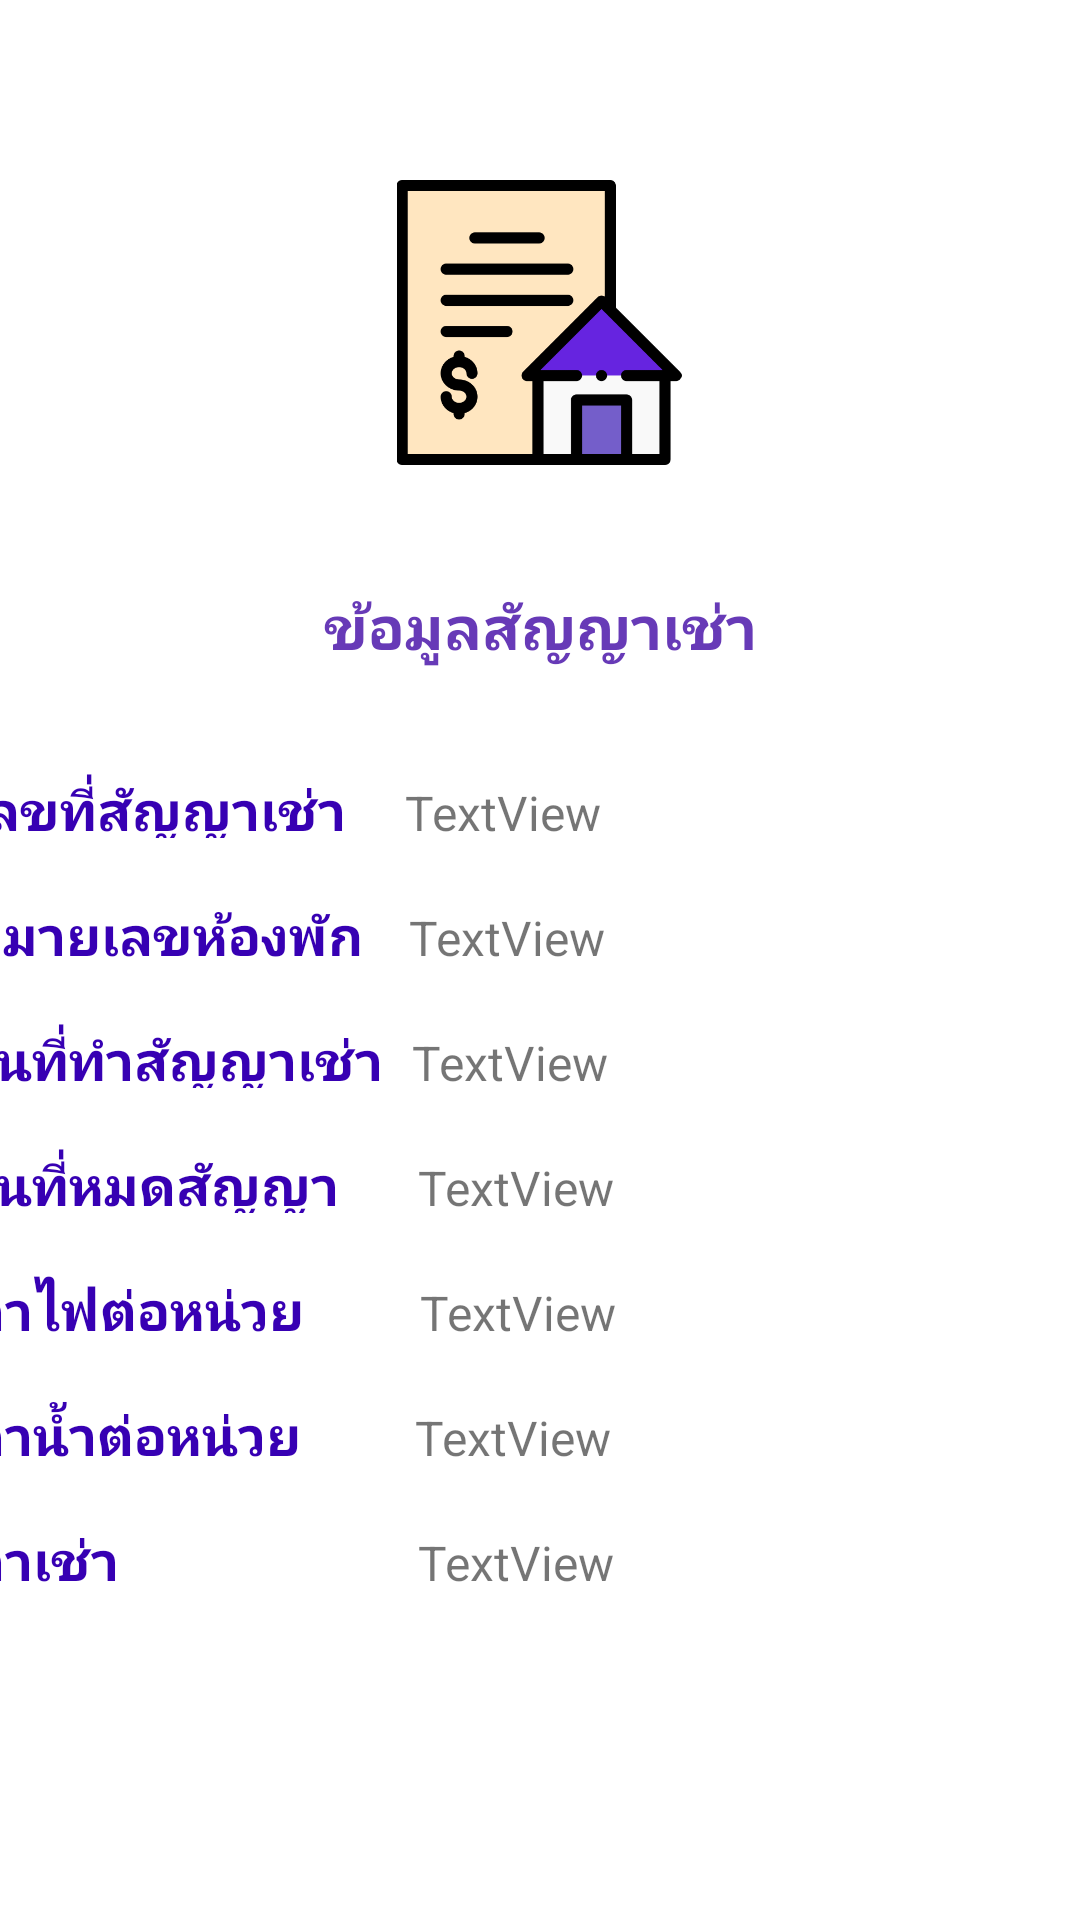

Icons on this 1080*1920 Android screen, each with its box as {"x1": x1, "y1": y1, "x2": x2, "y2": y2}:
mortgage: {"x1": 397, "y1": 180, "x2": 682, "y2": 465}
